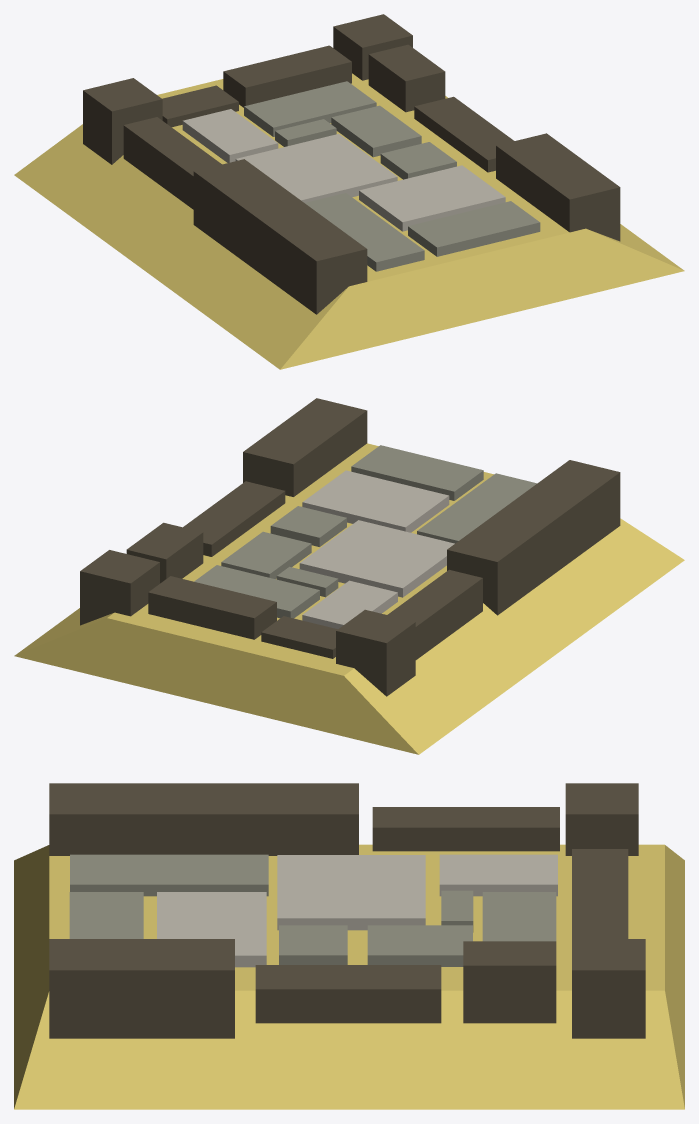
File: DeadEnd.fbx
3 views of the same model, one above another, from view 1: azimuth 30°, elevation 25°; view 2: azimuth 150°, elevation 25°; view 3: azimuth 270°, elevation 25° (orthographic). The views are drawn at different scales.
Parts seen in each view (by area): view 1: Stone - Dead End; view 2: Stone - Dead End; view 3: Stone - Dead End.
Boxes of the visible parts, x1=… form: Stone - Dead End: x1=14, y1=14, x2=684, y2=369; Stone - Dead End: x1=14, y1=398, x2=684, y2=754; Stone - Dead End: x1=14, y1=783, x2=684, y2=1109.
Size of the model in its own units: 80 by 18.02 by 91.04.
